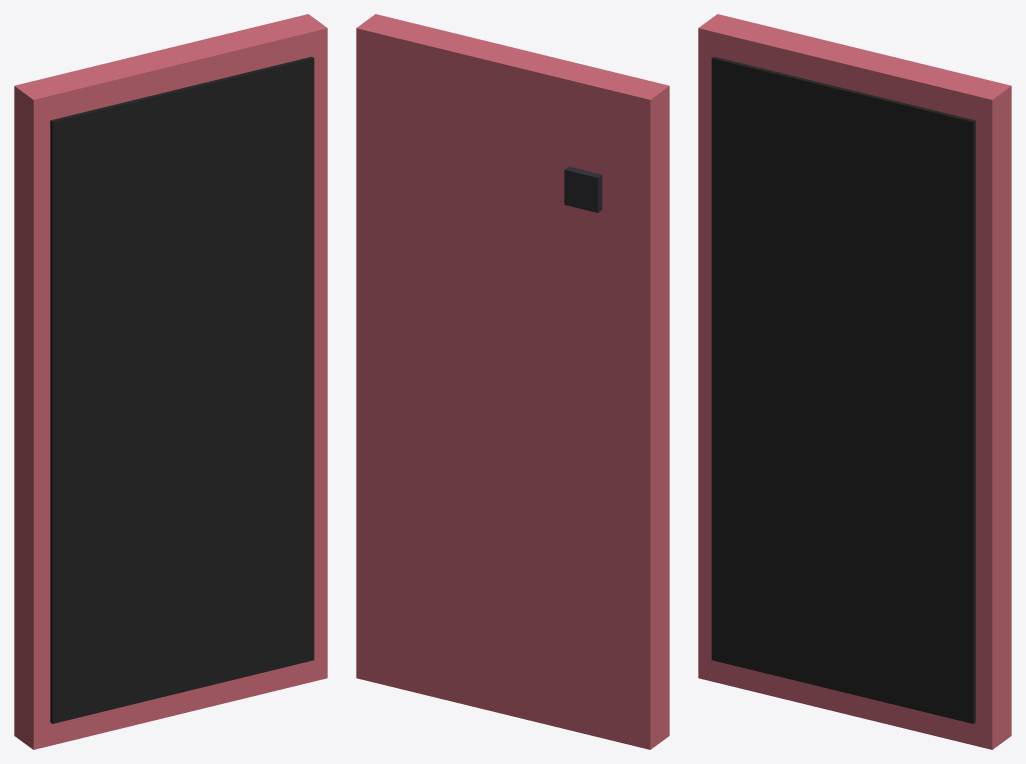
The model's file is iphone-se-3.glb.
3 views of the same model, side by side, from view 1: azimuth 30°, elevation 25°; view 2: azimuth 150°, elevation 25°; view 3: azimuth 330°, elevation 25° (orthographic).
Visible parts, largest first — view 1: tela, corpo; view 2: corpo, lente-0; view 3: tela, corpo.
Part boxes in pixels (box(x1,y1,x2,y2)): tela: box(50, 56, 314, 723); corpo: box(14, 14, 327, 749); corpo: box(356, 14, 669, 749); lente-0: box(564, 166, 602, 212); tela: box(711, 56, 975, 723); corpo: box(698, 14, 1011, 749).
Bounding box in the file's own units: 0.613 × 1.29 × 0.0961.
